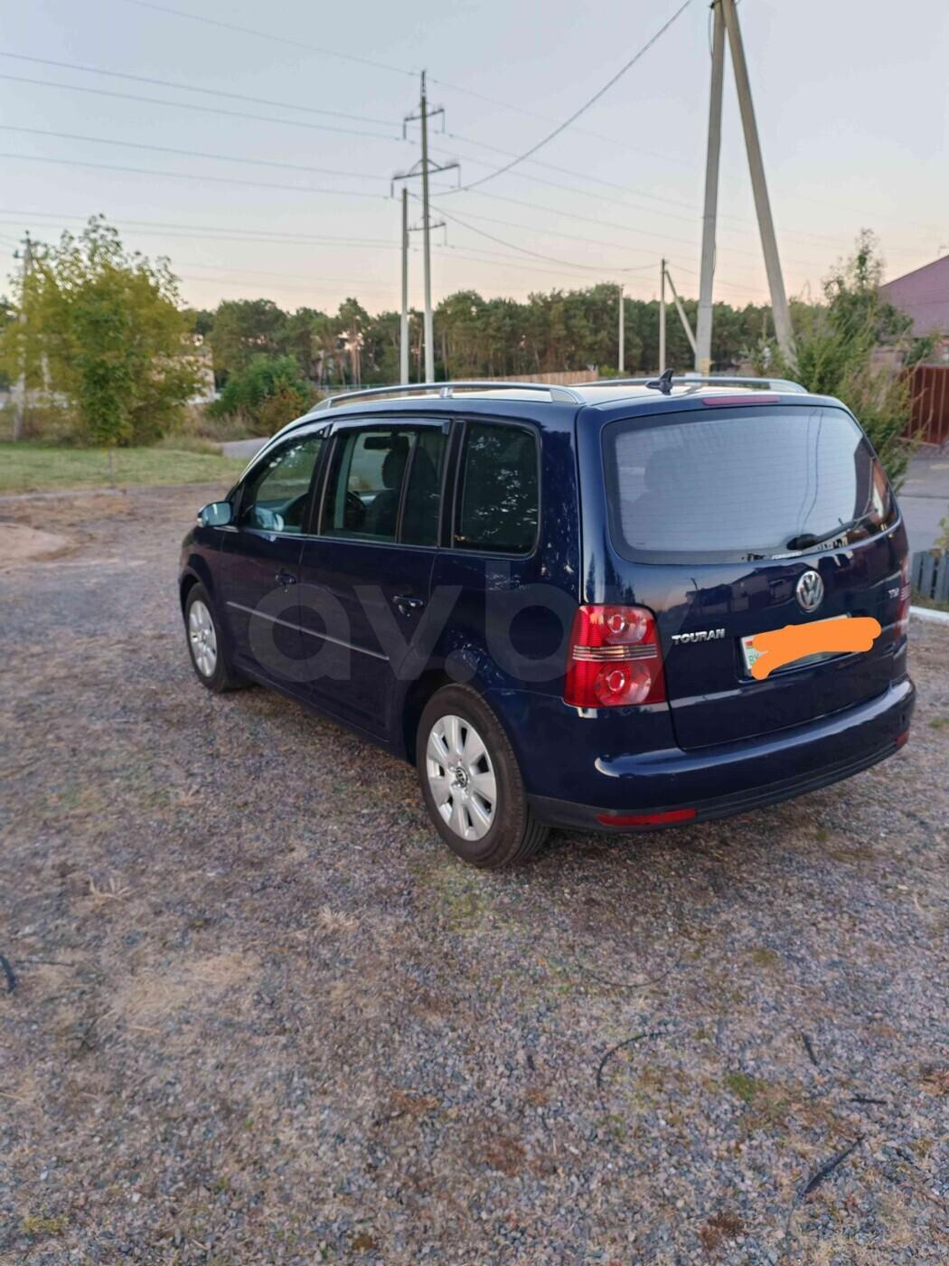Touran_2006-2010: (175, 362, 922, 857)
